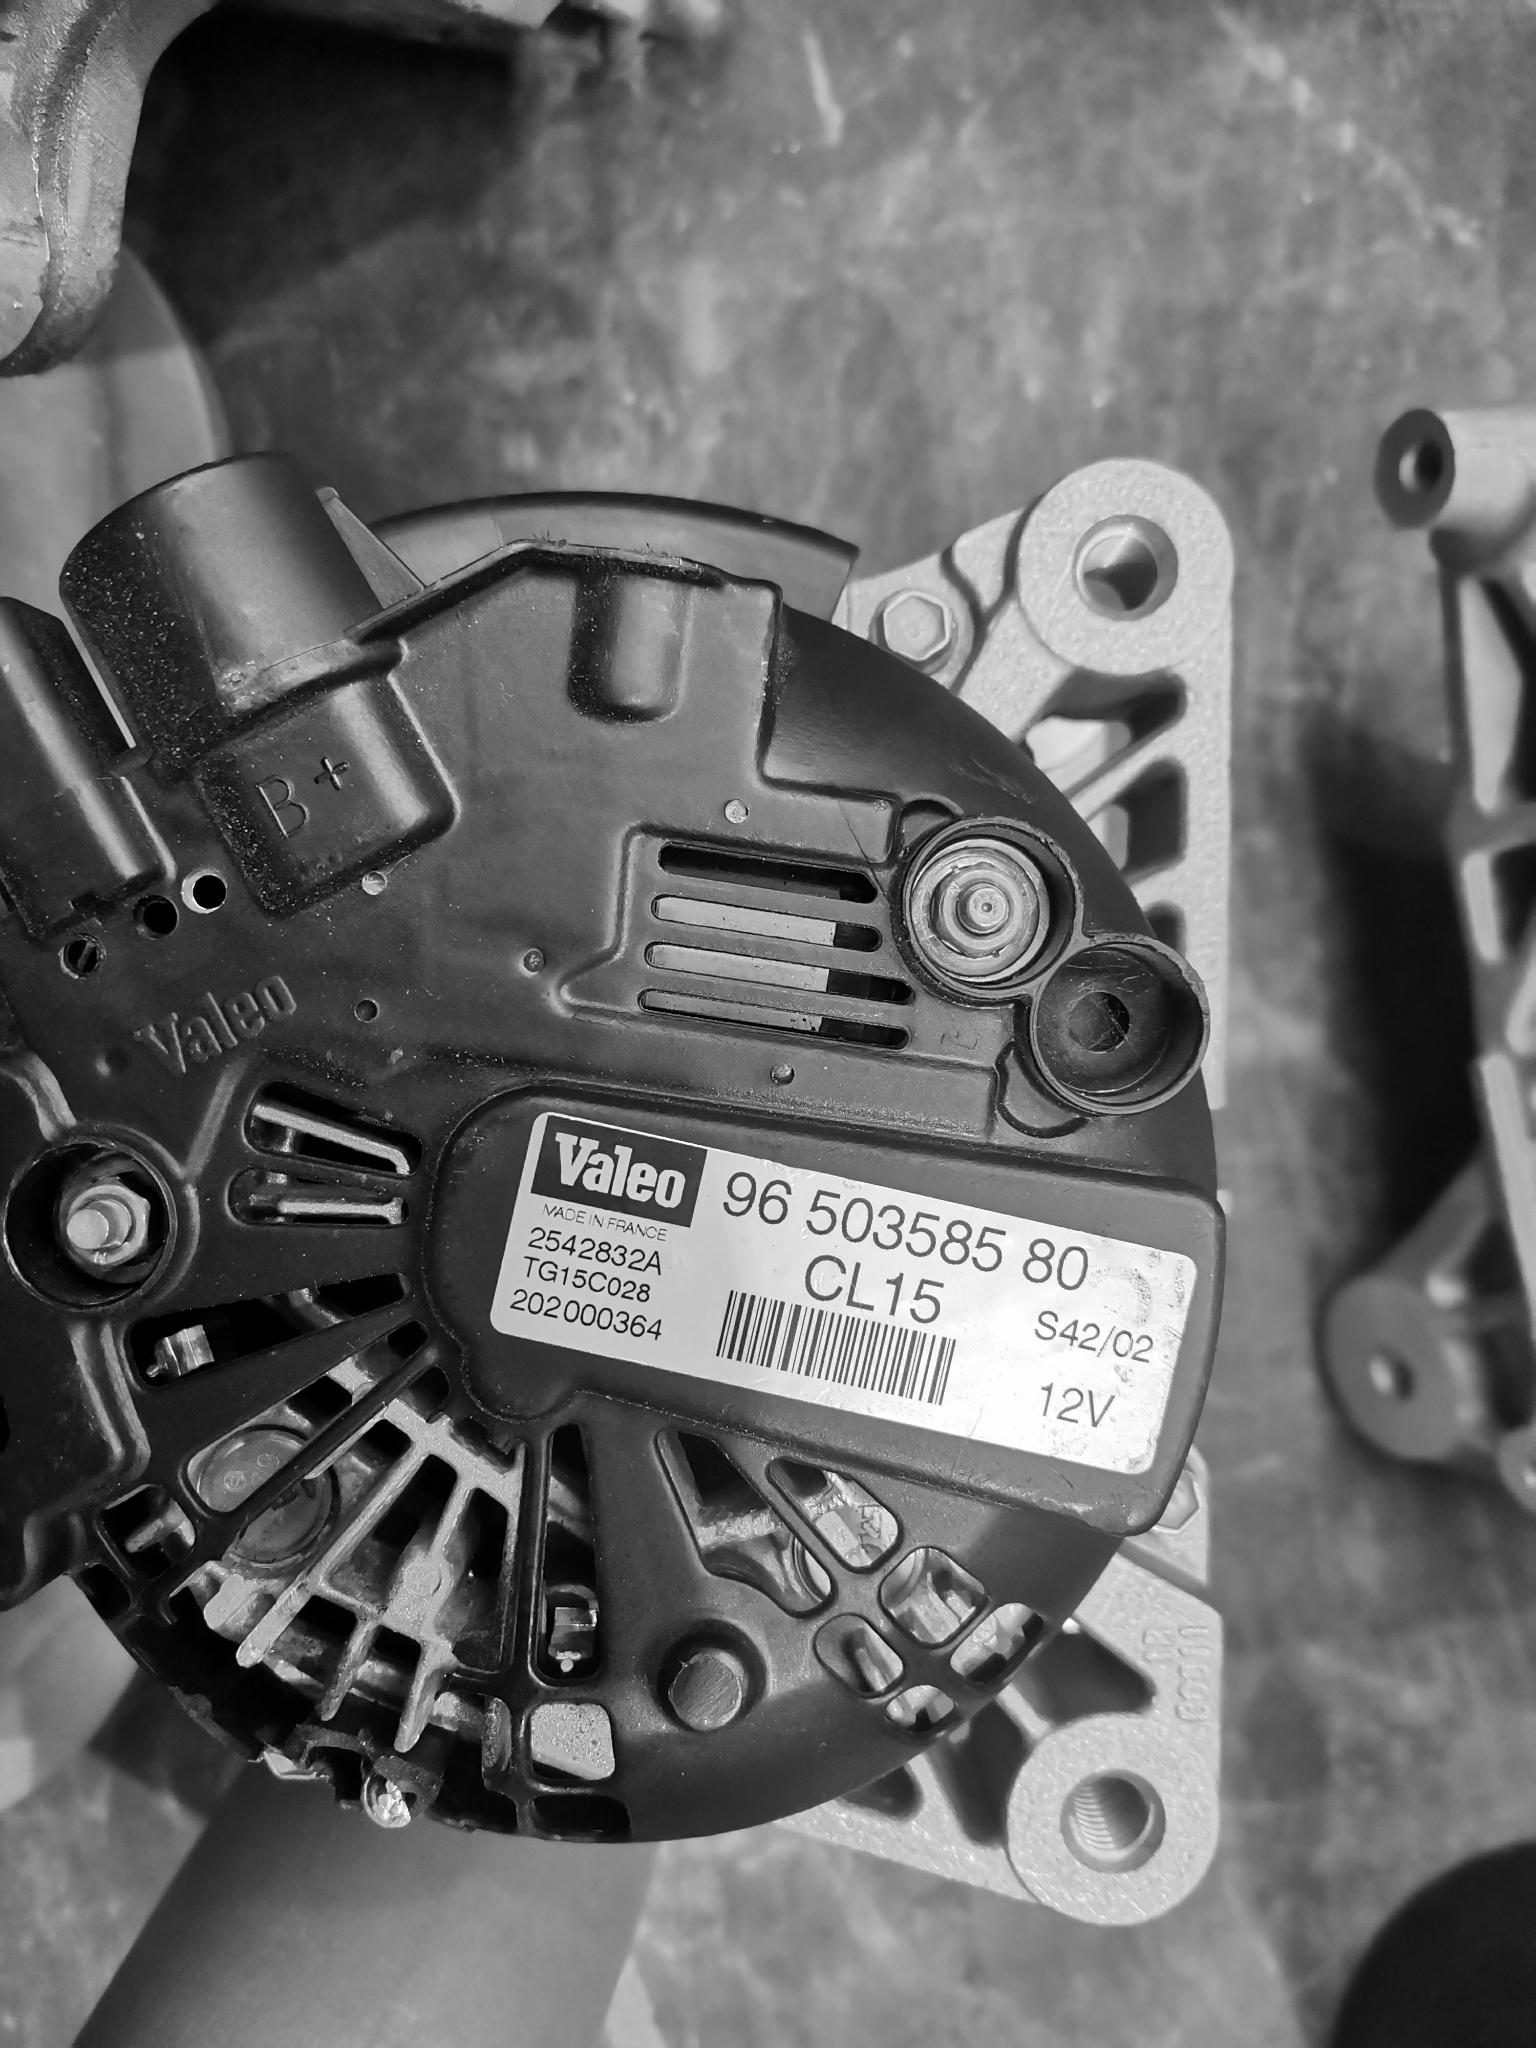screw: (926, 847, 1046, 966), (48, 1171, 166, 1285)
